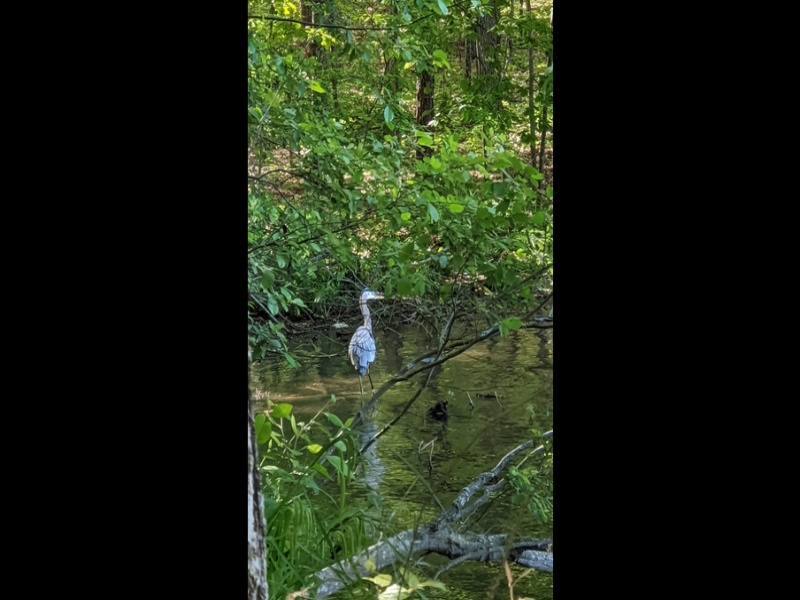heron: (346, 288, 386, 390)
